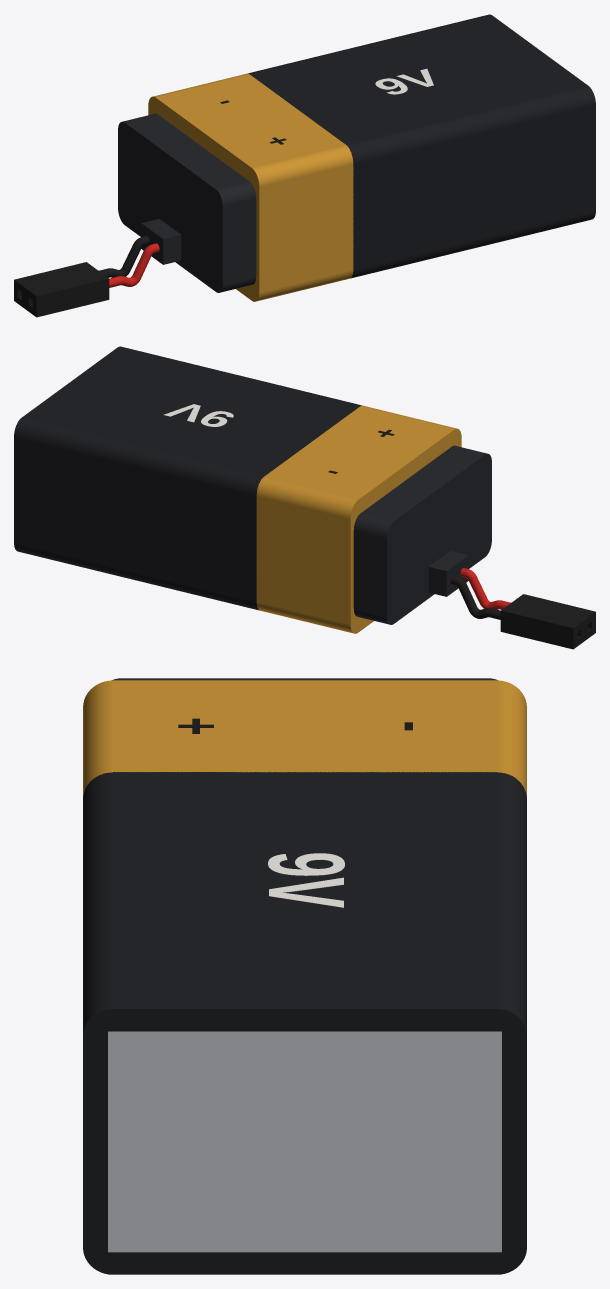
The model's file is battery-9v.glb.
3 renders of one model, top to bottom at view 1: azimuth 30°, elevation 25°; view 2: azimuth 150°, elevation 25°; view 3: azimuth 270°, elevation 25°, orthographic. The views are drawn at different scales.
Bounding box in the file's own units: 0.0711 × 0.0175 × 0.0265.
